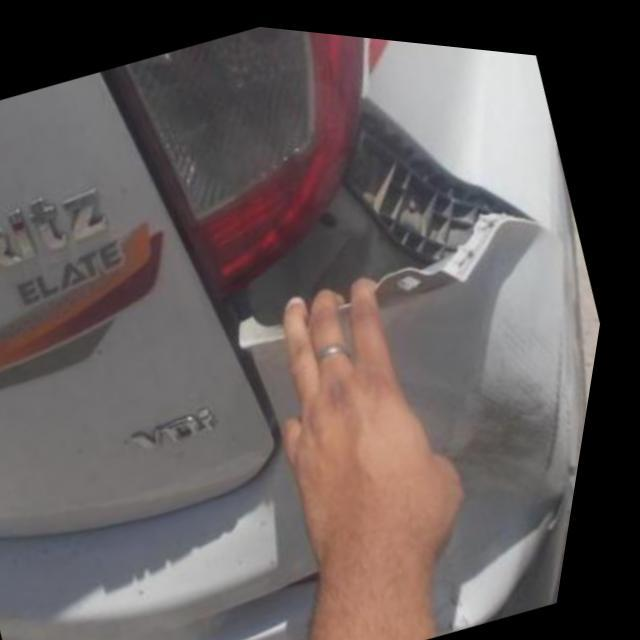crack: (239, 91, 554, 336)
rub: (461, 311, 585, 580)
